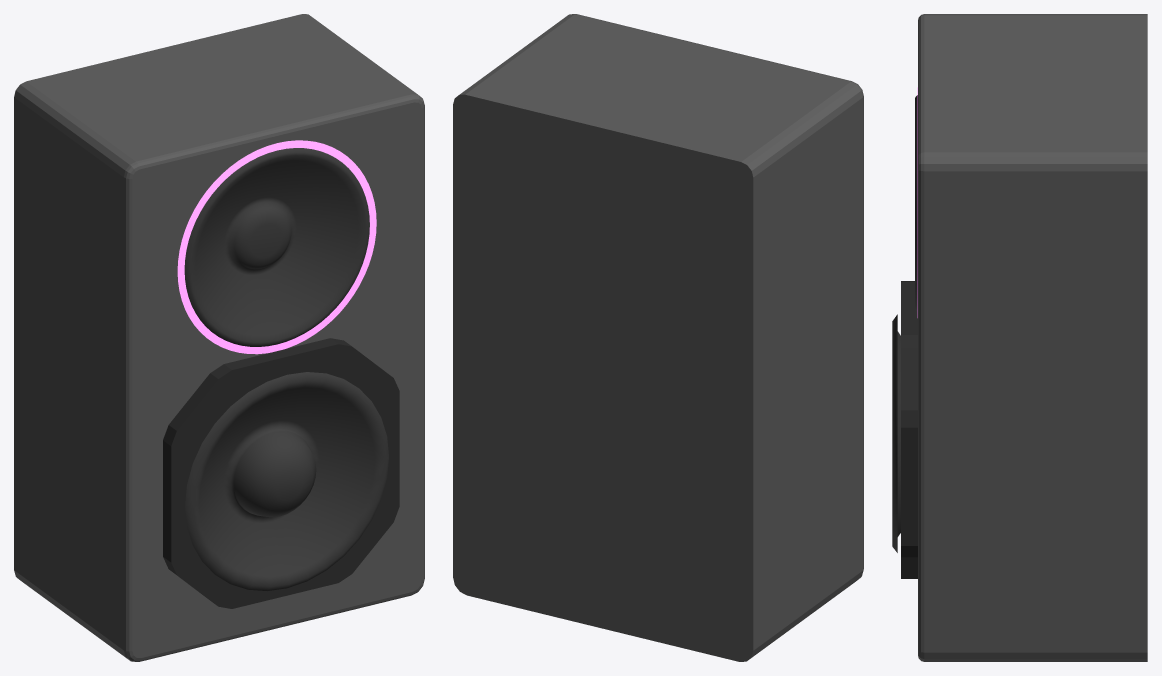
Rendered from Speaker.fbx.
3 views of the same model, side by side, from view 1: azimuth 30°, elevation 25°; view 2: azimuth 150°, elevation 25°; view 3: azimuth 270°, elevation 25° (orthographic).
Visible parts, largest first — view 1: SpeakerHousing, BottomSpeaker, TopSpeaker, BottomSpeakerRim, TopSpeakerRim; view 2: SpeakerHousing; view 3: SpeakerHousing, BottomSpeakerRim, BottomSpeaker, TopSpeaker.
Part boxes in pixels (x1,y1,x2,y2): SpeakerHousing: (14,14,424,661); BottomSpeaker: (185,372,388,590); TopSpeaker: (184,148,369,346); BottomSpeakerRim: (163,338,399,608); TopSpeakerRim: (177,140,376,354); SpeakerHousing: (453,14,863,661); SpeakerHousing: (918,14,1147,661); BottomSpeakerRim: (901,281,917,578); BottomSpeaker: (892,314,900,552); TopSpeaker: (915,95,917,311).
Size of the model in its own units: 307 by 489 by 222.
